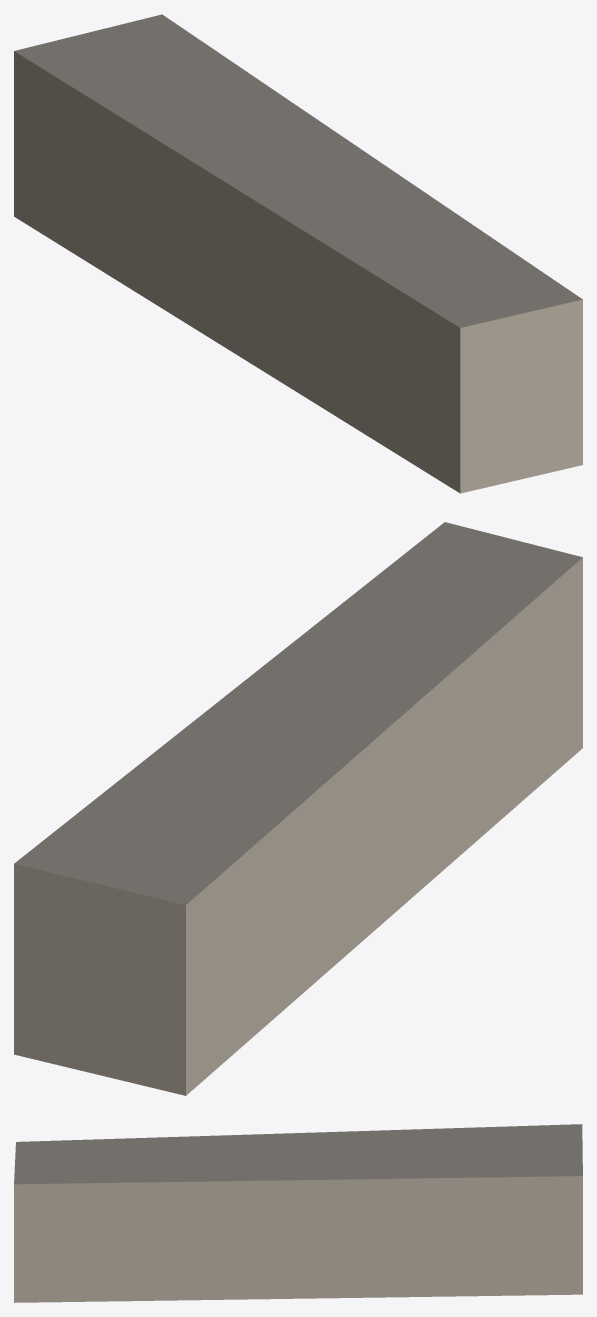
3 views of the same model, one above another, from view 1: azimuth 30°, elevation 25°; view 2: azimuth 150°, elevation 25°; view 3: azimuth 270°, elevation 25° (orthographic). The views are drawn at different scales.
Visible parts, largest first — view 1: HP-w1512911304; view 2: HP-w1512911304; view 3: HP-w1512911304.
Part boxes in pixels (x1,y1,x2,y2): HP-w1512911304: (14,14,582,493); HP-w1512911304: (14,522,582,1095); HP-w1512911304: (14,1124,582,1302).
Size of the model in its own units: 19.59 by 18 by 78.3.
